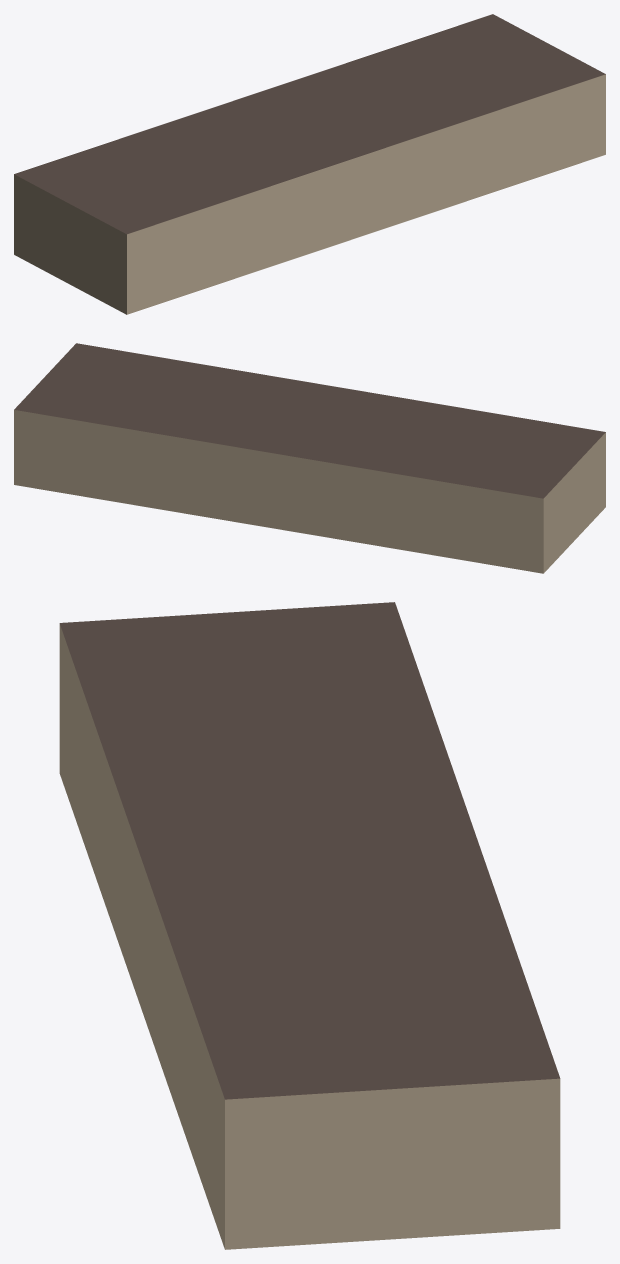
3 renders of one model, top to bottom at view 1: azimuth 30°, elevation 25°; view 2: azimuth 150°, elevation 25°; view 3: azimuth 270°, elevation 25°, orthographic. The views are drawn at different scales.
Parts seen in each view (by area): view 1: HP-w414733150; view 2: HP-w414733150; view 3: HP-w414733150.
Boxes of the visible parts, x1,y1,x2,y2 form: HP-w414733150: [14, 14, 605, 314]; HP-w414733150: [14, 343, 605, 573]; HP-w414733150: [59, 602, 560, 1249].
Size of the model in its own units: 42.61 by 6 by 18.13.
